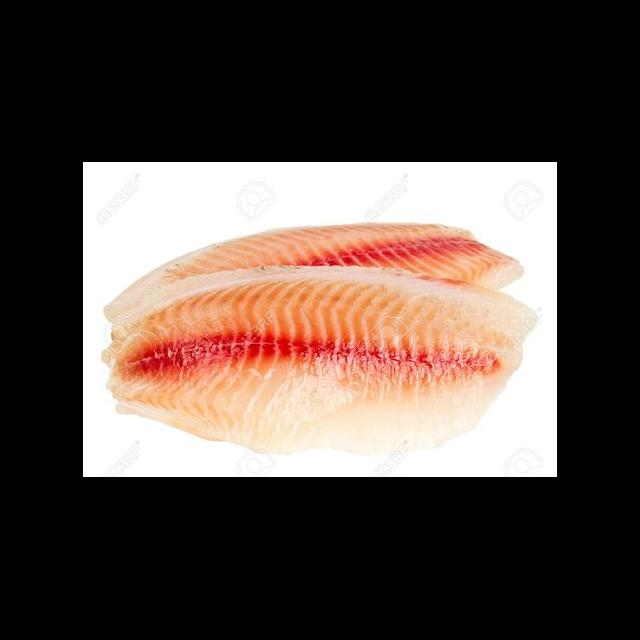fish: (89, 262, 545, 464)
